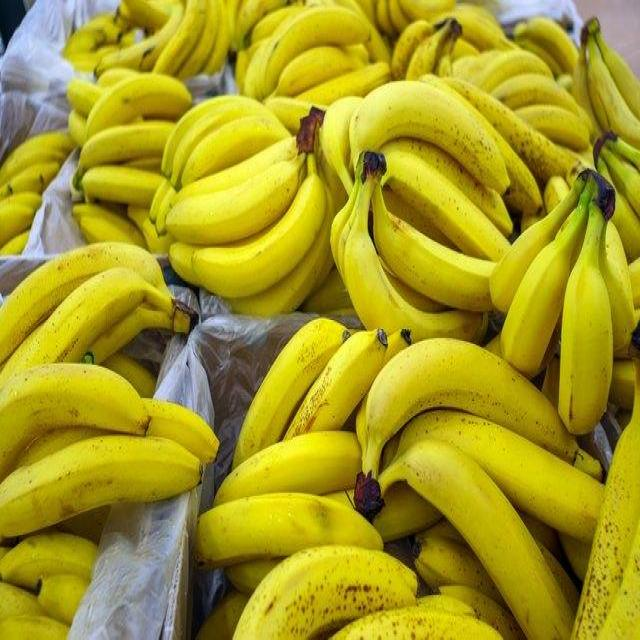banana: (348, 314, 614, 640), (316, 72, 544, 278), (482, 165, 638, 434), (0, 361, 233, 539), (324, 147, 503, 360), (172, 98, 336, 330), (0, 245, 201, 400), (232, 309, 352, 477), (228, 548, 426, 640), (207, 427, 380, 526), (72, 70, 193, 209), (284, 313, 410, 443), (570, 14, 640, 164)
